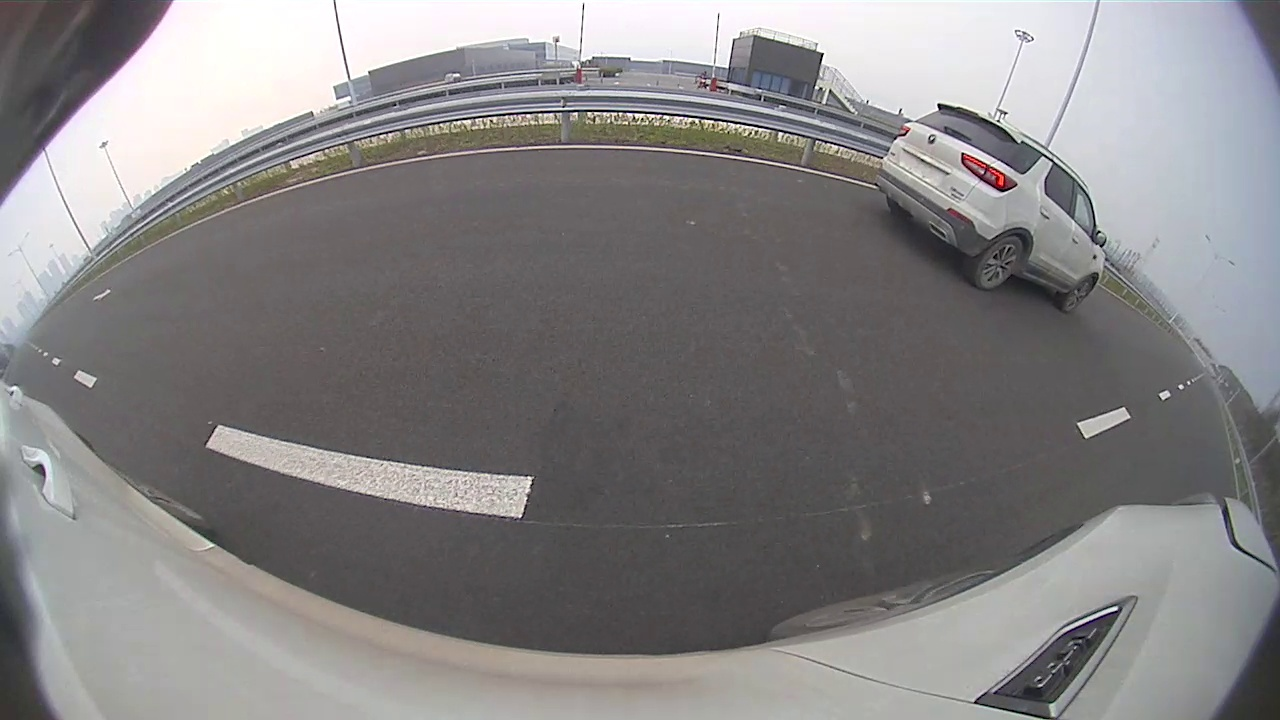car: (873, 103, 1106, 313)
front: (1061, 277, 1094, 313)
rear: (972, 234, 1027, 293)
